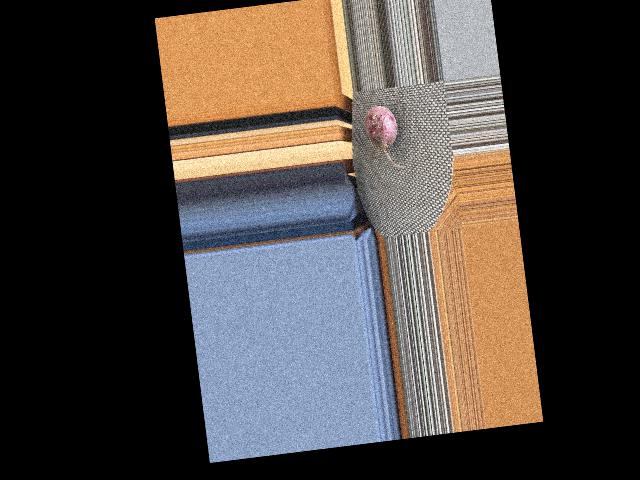beet: (362, 103, 406, 172)
